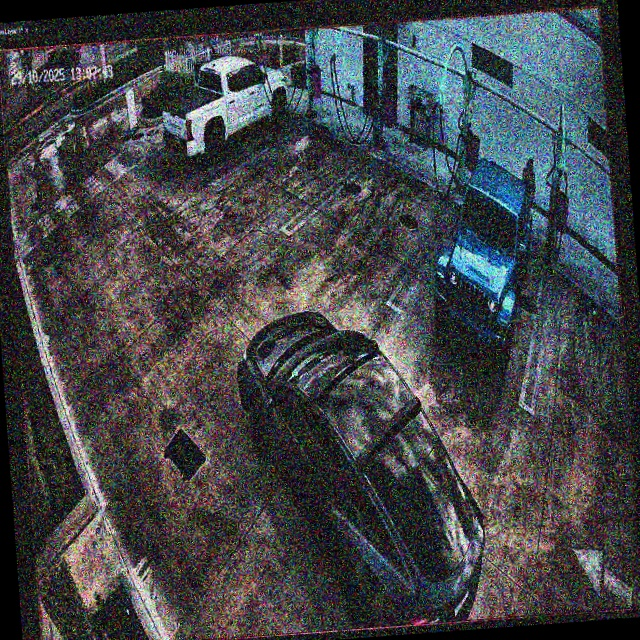Car: (236, 286, 491, 638), (427, 156, 546, 371), (160, 57, 292, 168)
